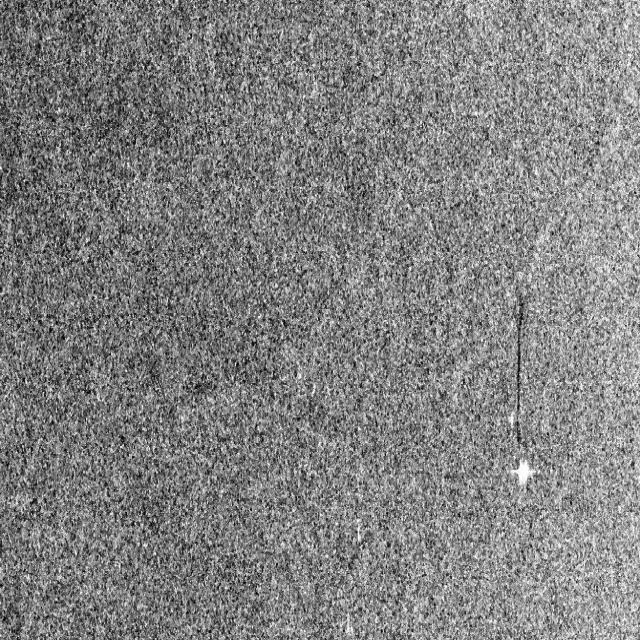oil-spill: (509, 295, 538, 451)
ship: (510, 452, 534, 495)
